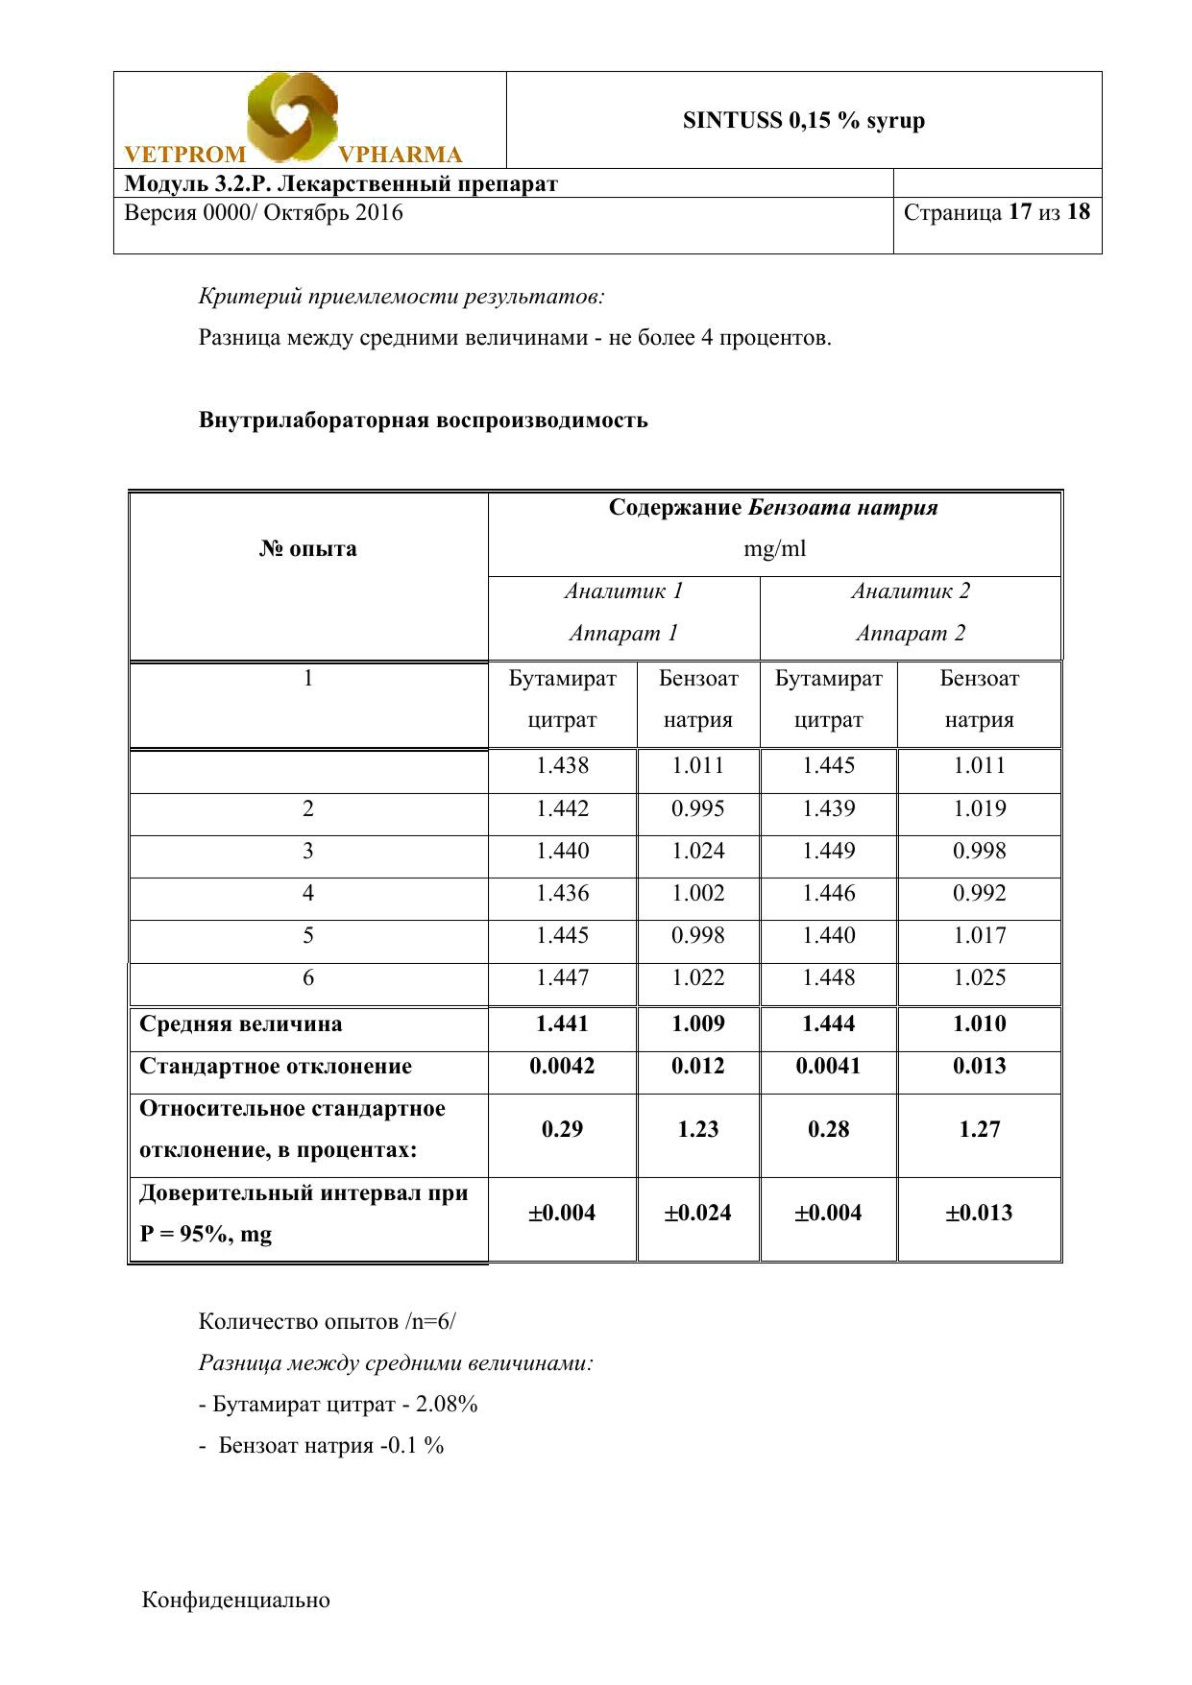merged_cells: (125, 486, 1066, 1264), (111, 70, 1104, 255)
